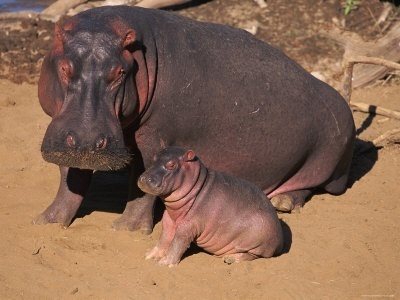hipopotamo: (22, 3, 372, 241), (125, 140, 302, 276)
